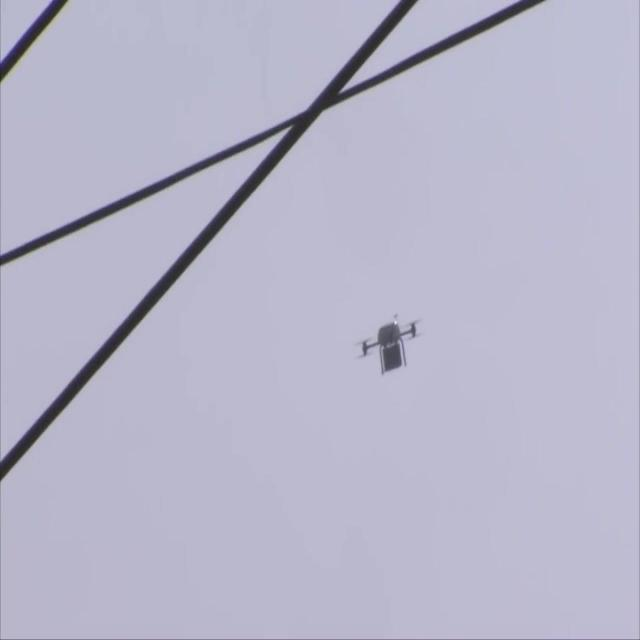UAV: (356, 313, 422, 376)
